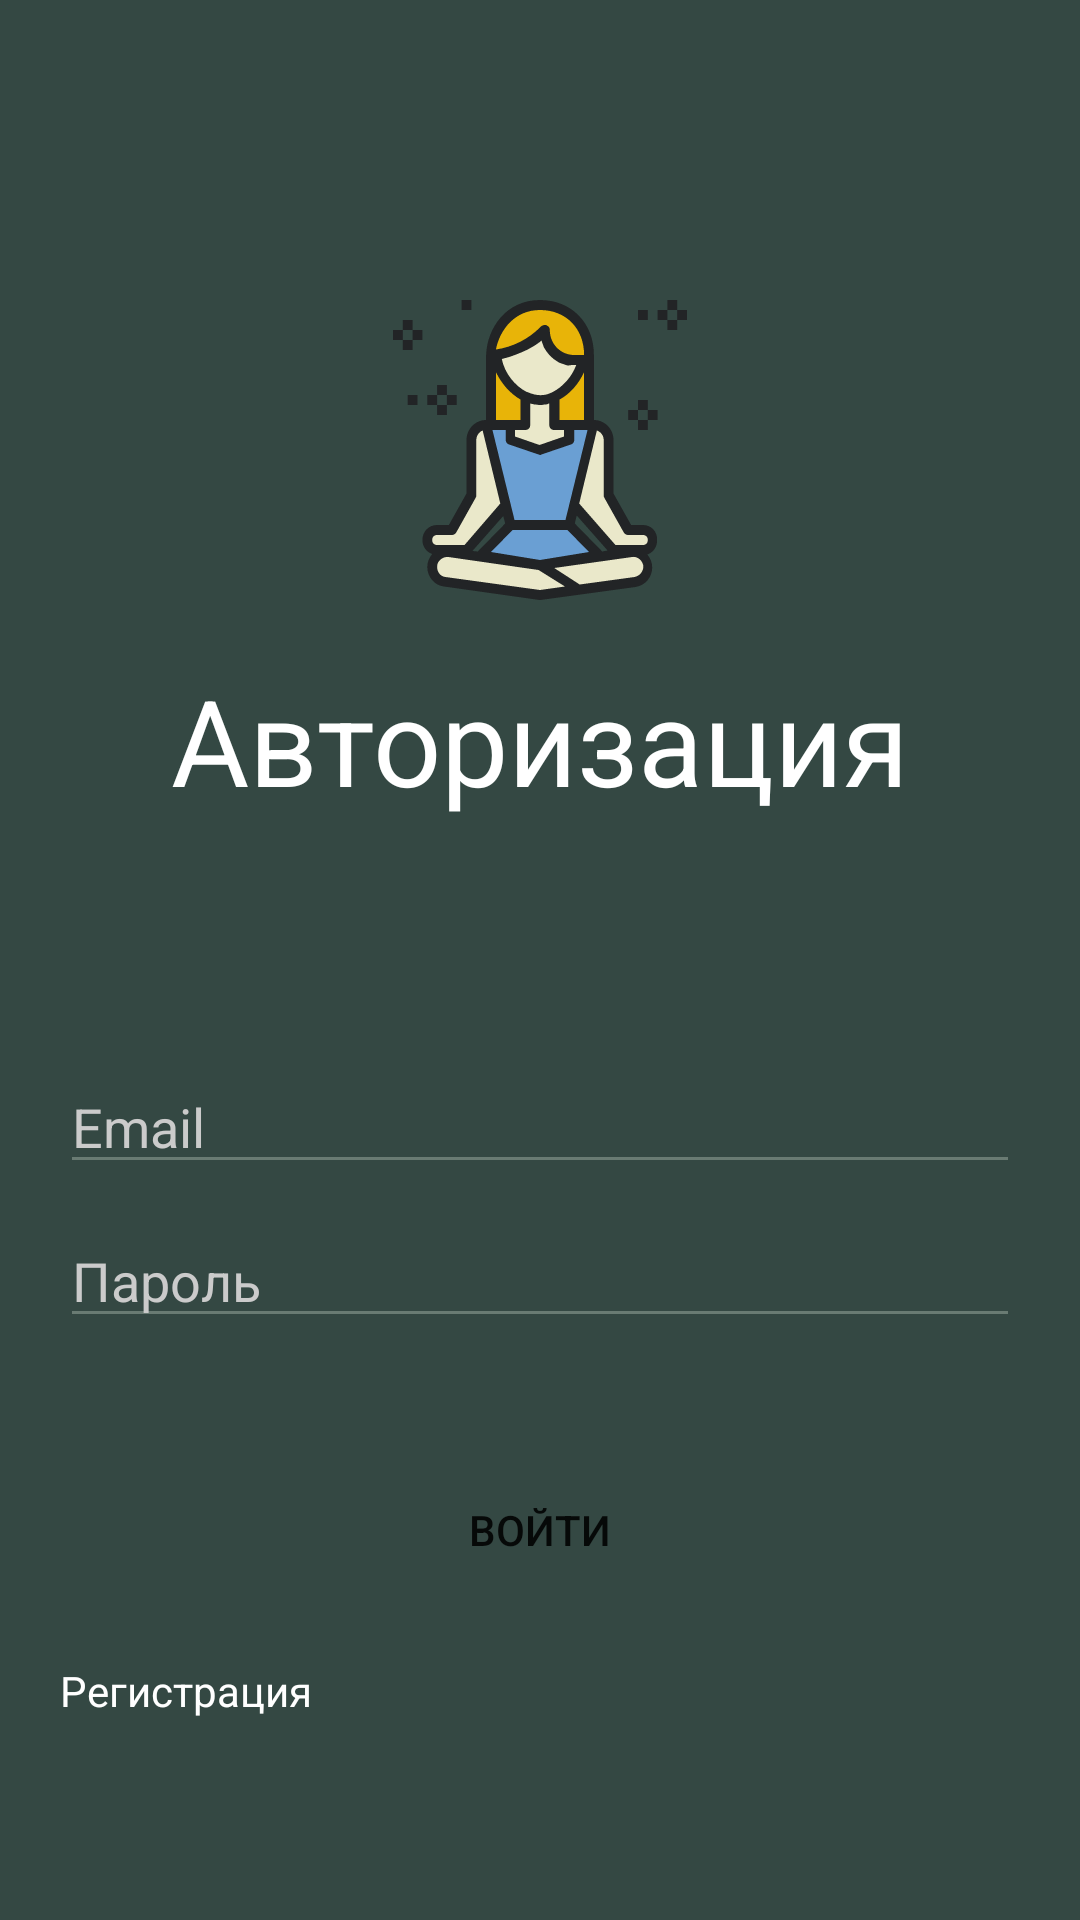

Named icons in this screenshot (1080 x 1920) and their bounding boxes, bbox=(x1, y1, x2, y2):
meditation: bbox=(393, 300, 687, 600)
